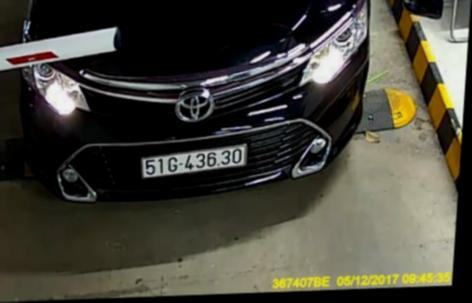License_Plate: (136, 140, 252, 183)
